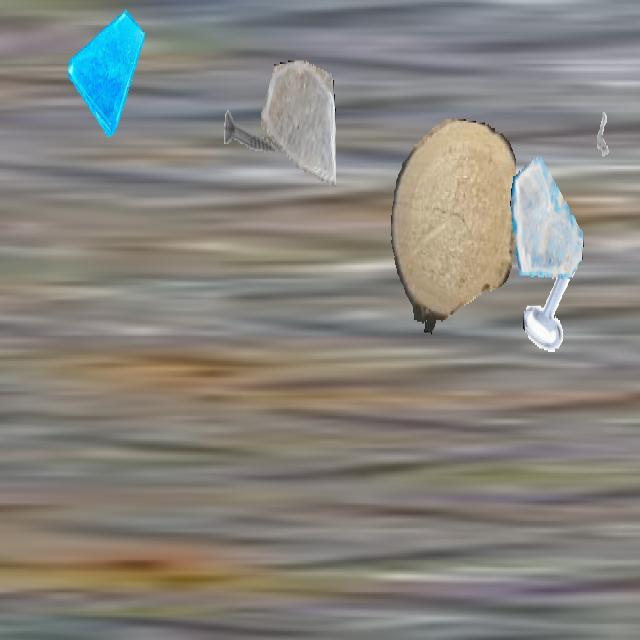glass: (68, 2, 144, 137), (261, 60, 335, 192), (510, 151, 584, 283)
metal: (222, 76, 284, 186), (523, 247, 585, 357), (584, 92, 622, 160)
wood: (391, 119, 515, 336)
